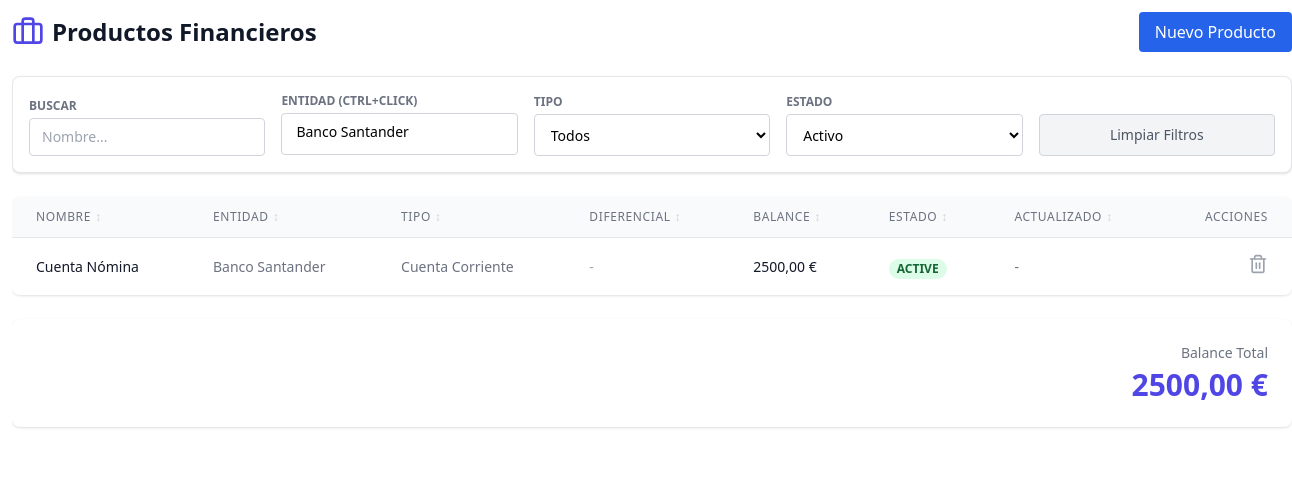
Test: ProductsPage › renders products list correctly
Expected: the text "Cuenta Nómina" is shown, [12,238,189,295]
Expected: the text "Banco Santander" is shown, [294,122,505,142]
Select "Todos" in the dropdown labelled "Estado" at (904, 135), box [786,114,1023,156]
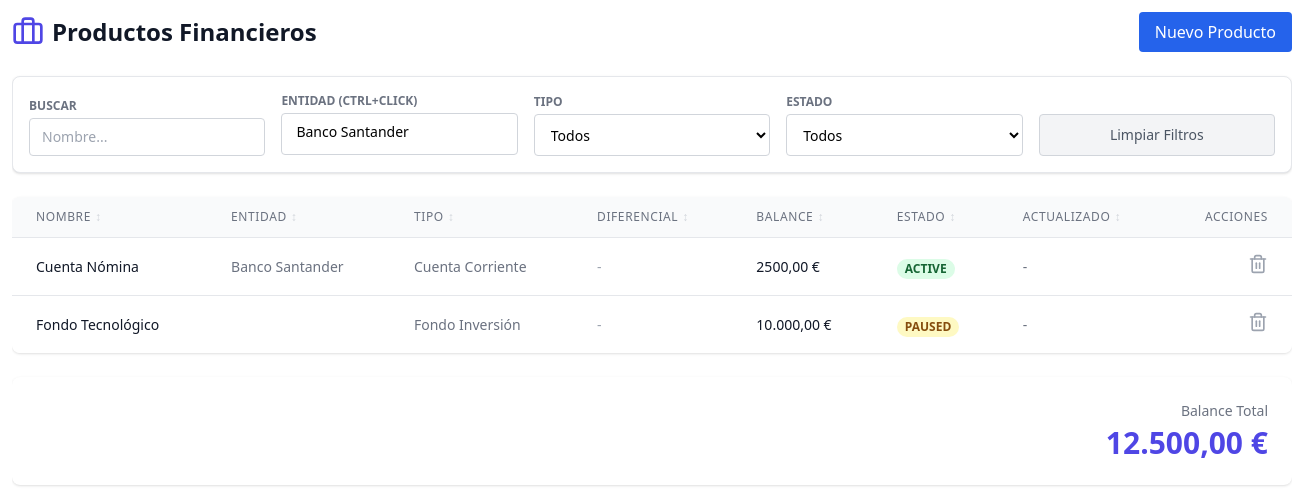
Expected: the text "Fondo Tecnológico" is shown, [12,296,207,353]
Expected: the text "PAUSED" is shown, [897,316,959,336]
